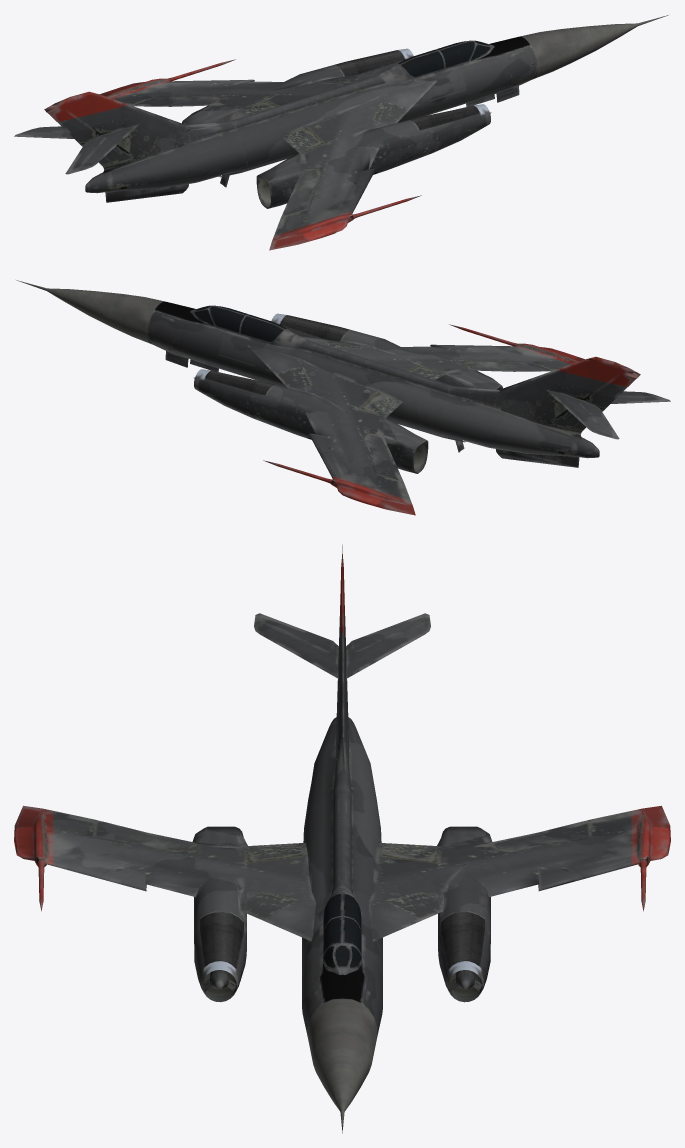
The model's file is fh_battle_e_carrier.glb.
3 views of the same model, one above another, from view 1: azimuth 30°, elevation 25°; view 2: azimuth 150°, elevation 25°; view 3: azimuth 270°, elevation 25° (orthographic). The views are drawn at different scales.
Parts seen in each view (by area): view 1: carrier; view 2: carrier; view 3: carrier.
Boxes of the visible parts, box(x1,y1,x2,y2) form: carrier: box(14, 15, 668, 250); carrier: box(16, 280, 670, 515); carrier: box(14, 544, 670, 1133).
Bounding box in the file's own units: 1 × 0.1918 × 0.5562.
Materials: 2 (2 with a texture image).
